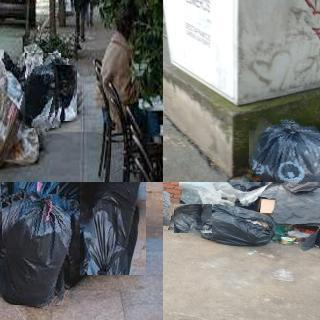Garbage: (0, 190, 76, 308), (80, 182, 146, 275), (245, 115, 320, 182), (21, 52, 65, 130), (202, 203, 276, 248), (11, 182, 82, 206), (0, 185, 13, 288), (55, 65, 77, 121), (174, 205, 212, 235), (163, 182, 181, 229), (284, 182, 320, 195)
